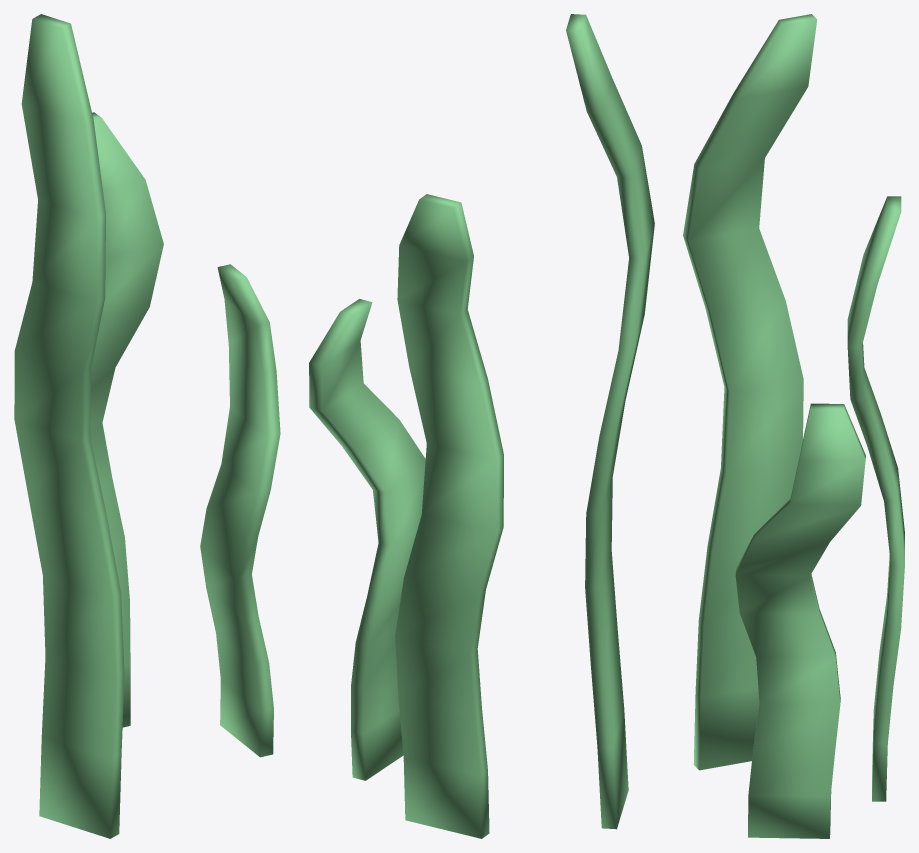
The model's file is Small4.fbx.
3 renders of one model, left to right at view 1: azimuth 30°, elevation 25°; view 2: azimuth 150°, elevation 25°; view 3: azimuth 270°, elevation 25°, orthographic. The views are drawn at different scales.
Visible parts, largest first — view 1: Small4_EXPORT; view 2: Small4_EXPORT; view 3: Small4_EXPORT.
Part boxes in pixels (box(x1,y1,x2,y2)): Small4_EXPORT: box(14, 14, 280, 838); Small4_EXPORT: box(309, 14, 654, 838); Small4_EXPORT: box(683, 14, 904, 838).
Size of the model in its own units: 0.9485 by 2.62 by 0.709.
